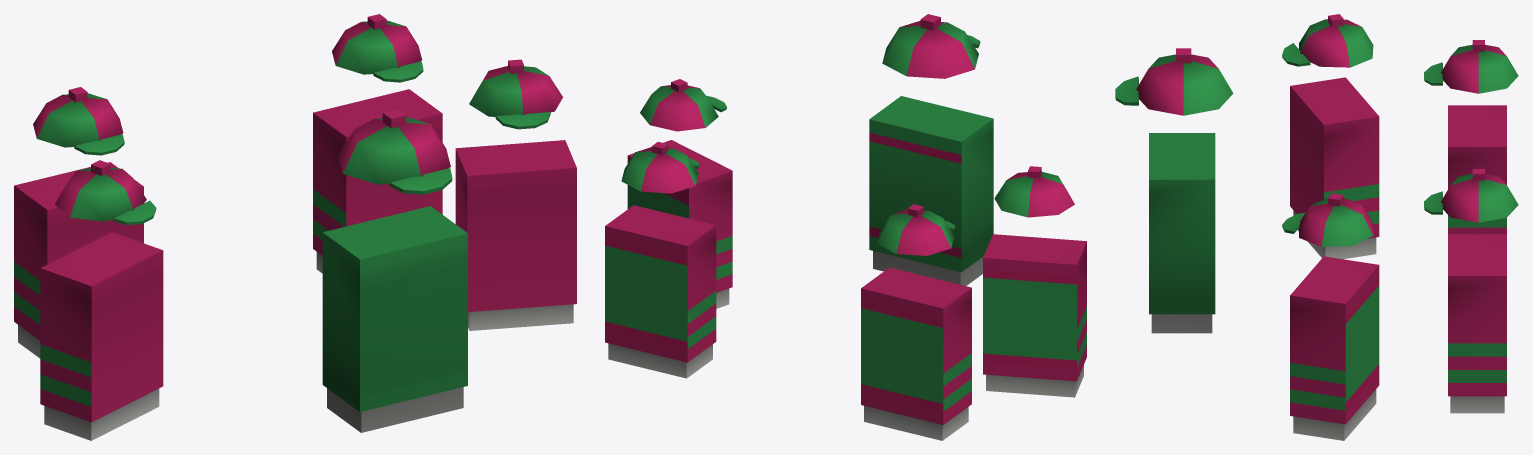
The model's file is silks-stirrups-lod2.glb.
The picture shows the model from 3 angles, left to right: view 1: azimuth 30°, elevation 25°; view 2: azimuth 150°, elevation 25°; view 3: azimuth 270°, elevation 25°; orthographic projection. The views are drawn at different scales.
Visible parts, largest first — view 1: cap_torso, att3_torso, att2_torso, att0_torso, att1_torso, cap_hat, att1_hat, att0_hat, att2_hat, att3_hat; view 2: cap_torso, att0_torso, att1_torso, att3_torso, att2_torso, cap_hat, att2_hat, att1_hat, att0_hat, att3_hat; view 3: att2_torso, cap_torso, att3_torso, att0_torso, cap_hat, att1_torso, att3_hat, att0_hat, att1_hat, att2_hat.
Boxes of the visible parts, bbox=[...] form: cap_torso: bbox=[322, 206, 467, 432]; att3_torso: bbox=[40, 232, 163, 440]; att2_torso: bbox=[455, 140, 576, 330]; att0_torso: bbox=[313, 89, 442, 273]; att1_torso: bbox=[14, 162, 143, 358]; cap_hat: bbox=[338, 109, 452, 194]; att1_hat: bbox=[33, 87, 124, 155]; att0_hat: bbox=[332, 14, 423, 82]; att2_hat: bbox=[469, 59, 562, 129]; att3_hat: bbox=[54, 160, 156, 224]; cap_torso: bbox=[869, 96, 993, 285]; att0_torso: bbox=[605, 205, 716, 378]; att1_torso: bbox=[861, 267, 971, 440]; att3_torso: bbox=[983, 234, 1086, 397]; att2_torso: bbox=[627, 140, 732, 308]; cap_hat: bbox=[882, 14, 980, 78]; att2_hat: bbox=[640, 79, 726, 131]; att1_hat: bbox=[877, 204, 955, 255]; att0_hat: bbox=[621, 142, 699, 193]; att3_hat: bbox=[994, 166, 1074, 217]; att2_torso: bbox=[1290, 256, 1379, 440]; cap_torso: bbox=[1149, 133, 1215, 333]; att3_torso: bbox=[1290, 77, 1379, 259]; att0_torso: bbox=[1448, 234, 1506, 413]; cap_hat: bbox=[1115, 48, 1233, 115]; att1_torso: bbox=[1448, 105, 1506, 234]; att3_hat: bbox=[1282, 14, 1373, 67]; att0_hat: bbox=[1424, 169, 1518, 222]; att1_hat: bbox=[1424, 40, 1518, 93]; att2_hat: bbox=[1282, 193, 1373, 246].
Size of the model in its own units: 2.18 by 1.24 by 1.64.
